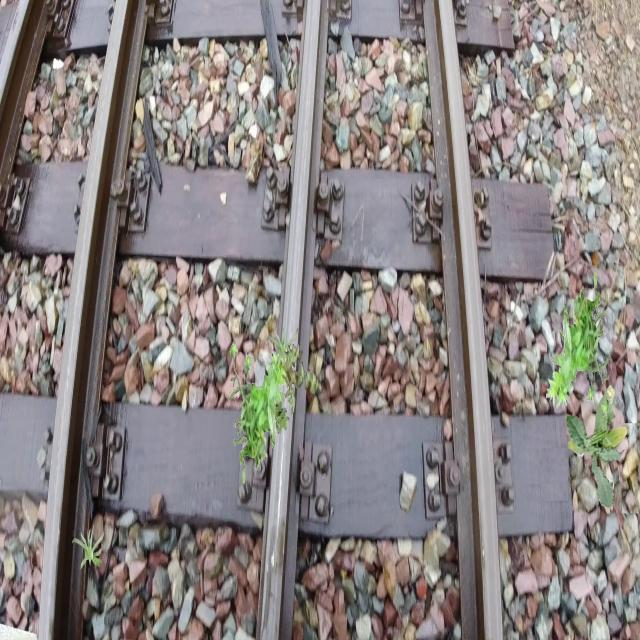Plant: (229, 341, 294, 484), (546, 273, 610, 416), (566, 385, 628, 510), (281, 343, 322, 414), (266, 323, 298, 369), (72, 525, 104, 571), (266, 393, 290, 434)
